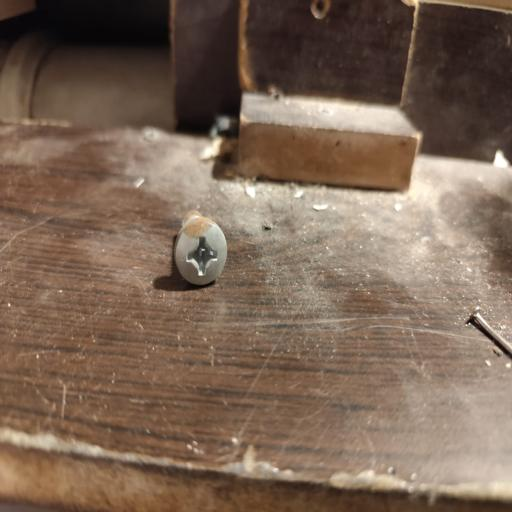Phillips: (170, 214, 231, 288)
